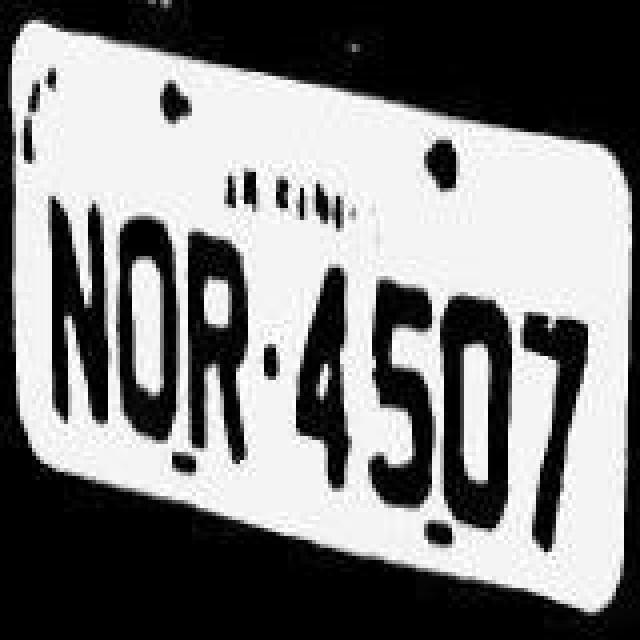4: (292, 246, 364, 522)
5: (364, 254, 436, 522)
7: (524, 256, 596, 572)
N: (38, 180, 114, 444)
O: (438, 266, 514, 538), (112, 200, 184, 452)
R: (182, 234, 266, 474)
